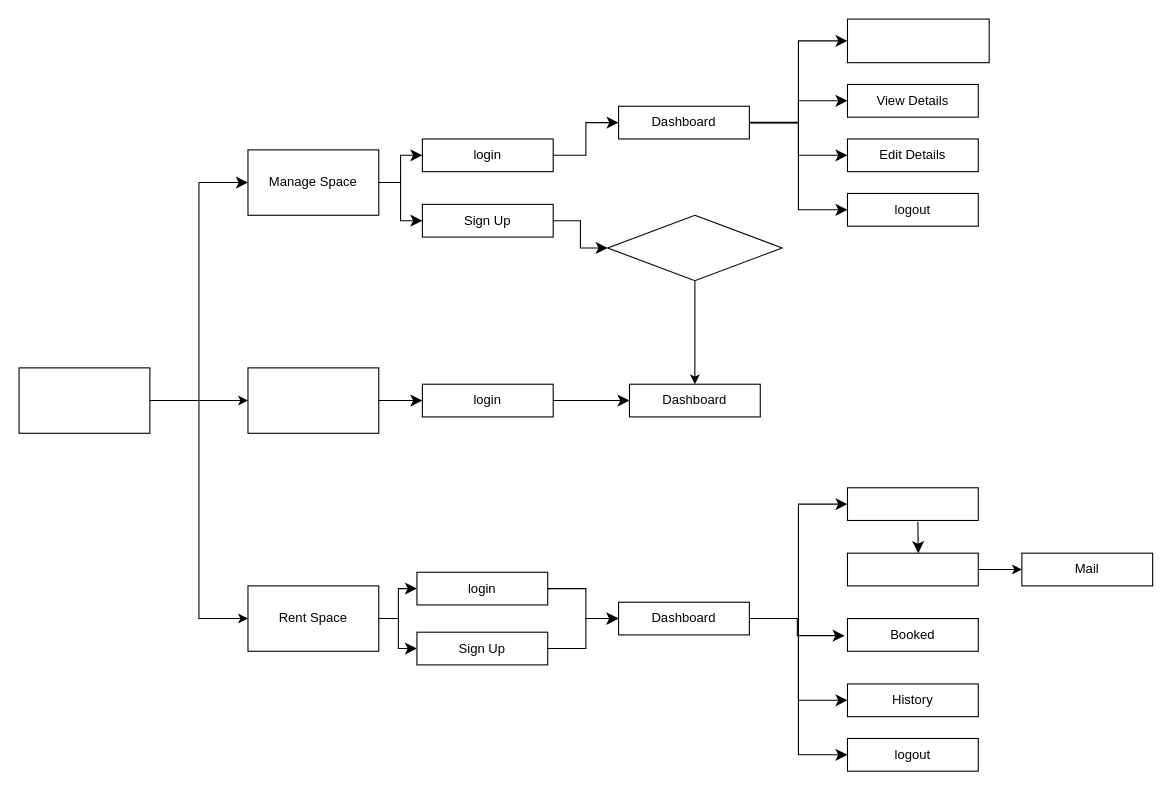
Some shapes in this 1172 by 790 pixel diagram are drawn without their labels. The shapes that lost their labels are listed below. From the top down, each one's centre as x and y in pixels, then its label:
At pixel 917 40: "Mange parked car (Check / Uncheck)".
At pixel 694 247: "Varification Pending".
At pixel 84 400: "Home".
At pixel 313 400: "Admin".
At pixel 912 503: "Book Parking".
At pixel 912 569: "Payment".
